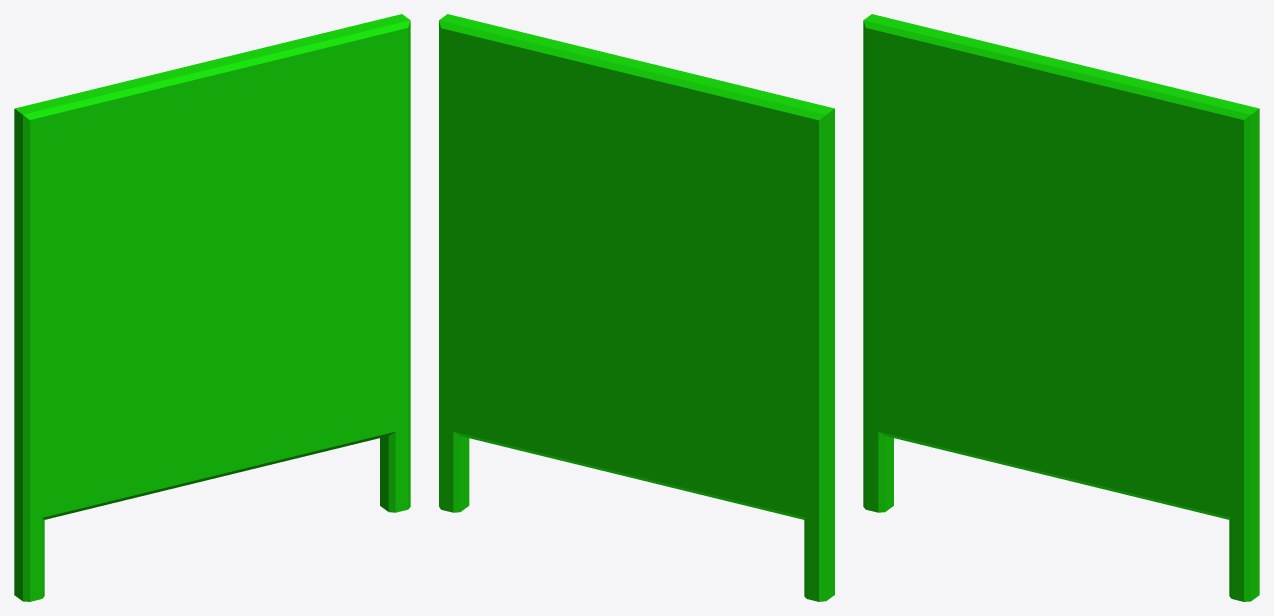
File: SM_ConcrateFence_2.fbx
The picture shows the model from 3 angles, left to right: view 1: azimuth 30°, elevation 25°; view 2: azimuth 150°, elevation 25°; view 3: azimuth 330°, elevation 25°; orthographic projection.
Parts seen in each view (by area): view 1: SM_ConcrateFence_2; view 2: SM_ConcrateFence_2; view 3: SM_ConcrateFence_2.
Part boxes in pixels (x1,y1,x2,y2): SM_ConcrateFence_2: [14, 14, 410, 601]; SM_ConcrateFence_2: [439, 14, 834, 601]; SM_ConcrateFence_2: [863, 14, 1259, 601].
Bounding box in the file's own units: 2.5 × 3 × 0.15.
